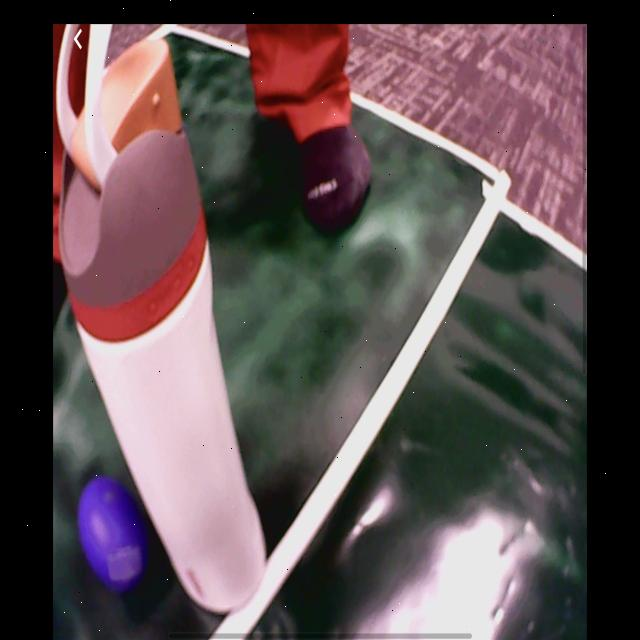ball: (78, 474, 148, 589)
